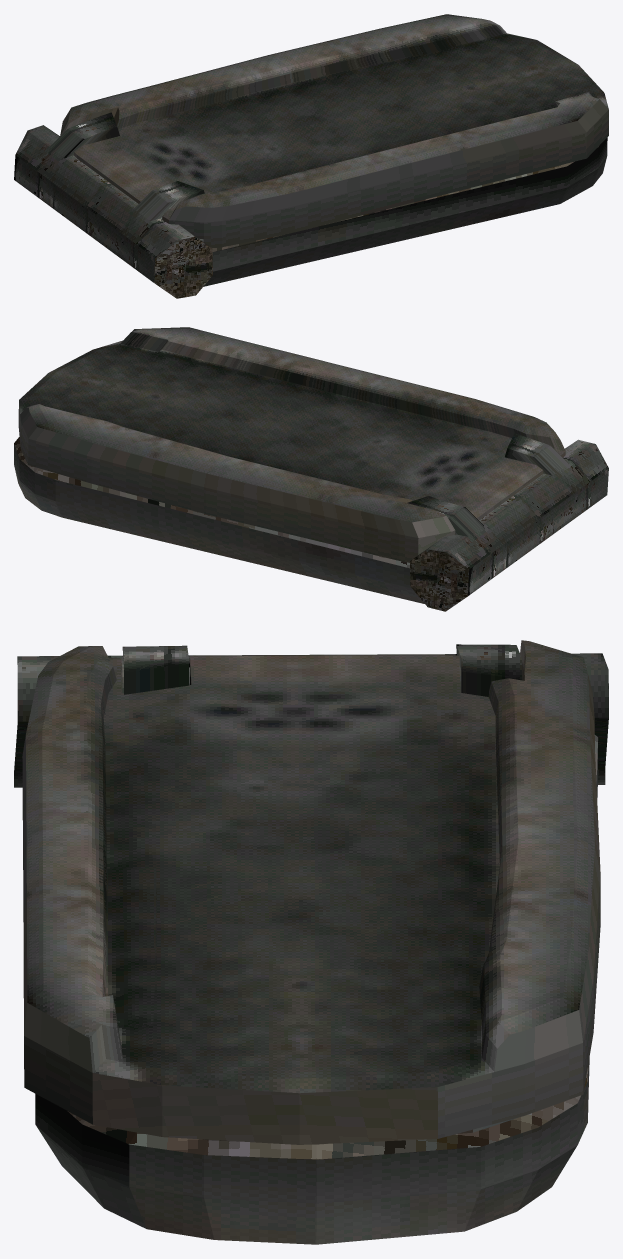
File: mp_burner phone interaction1.glb
3 renders of one model, top to bottom at view 1: azimuth 30°, elevation 25°; view 2: azimuth 150°, elevation 25°; view 3: azimuth 270°, elevation 25°, orthographic. The views are drawn at different scales.
Visible parts, largest first — view 1: burner phone screen, burner phone pivot parent, burner phone interactable base; view 2: burner phone screen, burner phone interactable base, burner phone pivot parent; view 3: burner phone screen, burner phone interactable base, burner phone pivot parent.
Part boxes in pixels (left/top/right/bottom): burner phone screen: left=60, top=14, right=608, bottom=247; burner phone pivot parent: left=14, top=112, right=212, bottom=298; burner phone interactable base: left=199, top=137, right=607, bottom=286; burner phone screen: left=18, top=327, right=565, bottom=562; burner phone interactable base: left=14, top=437, right=424, bottom=603; burner phone pivot parent: left=407, top=433, right=608, bottom=611; burner phone screen: left=22, top=640, right=600, bottom=1144; burner phone interactable base: left=35, top=735, right=598, bottom=1244; burner phone pivot parent: left=14, top=644, right=608, bottom=787.
Size of the model in its own units: 1.81 by 0.3262 by 0.964.
1 material, 1 textured.
